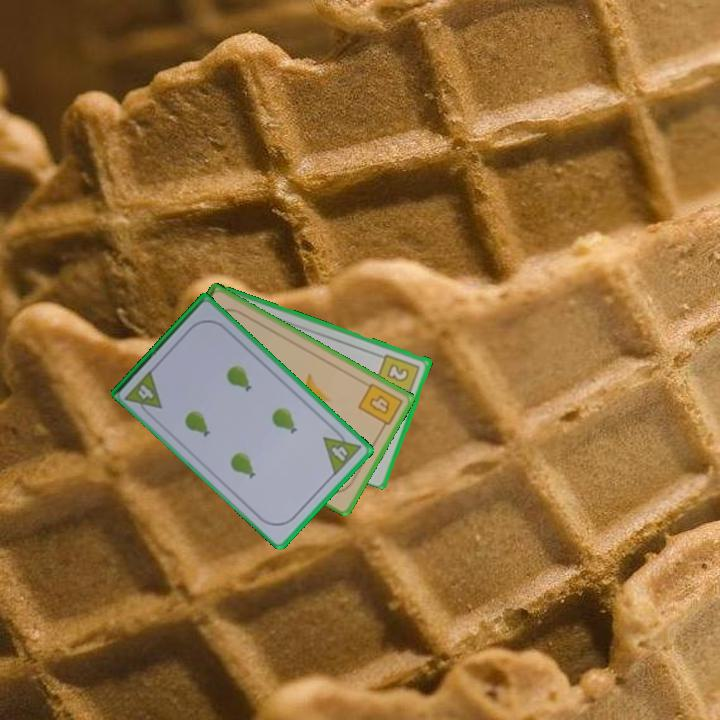2b: (374, 350, 423, 401)
4b: (354, 379, 406, 433)
4p: (320, 423, 364, 478), (122, 366, 165, 420)
